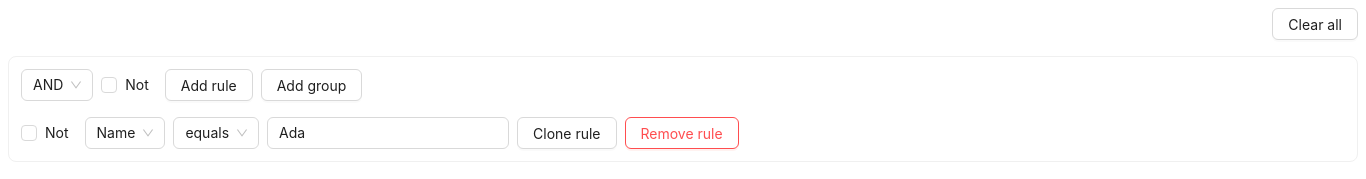
Test case: AntdFilterBuilder clear all › cancel aborts the clear
Click the button "Clear all".
click(1315, 24)  # box [1272, 8, 1358, 40]
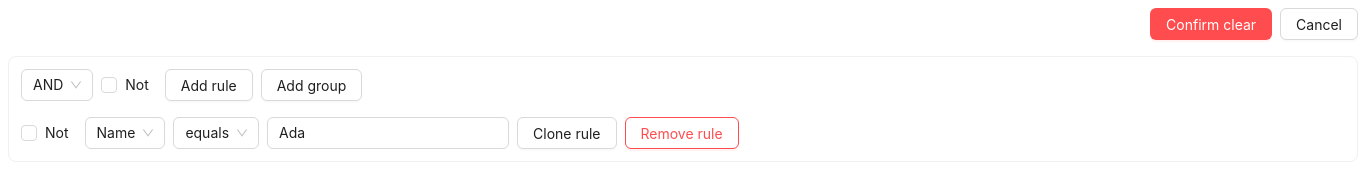
Click the button "Cancel".
click(1319, 24)  # box [1280, 8, 1358, 40]
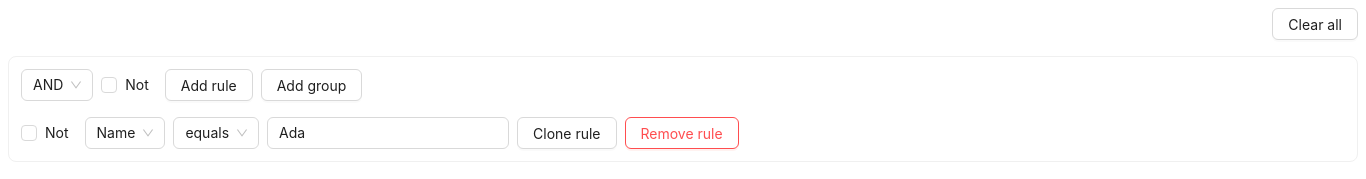
Expected: the button "Clear all" is shown, [1272, 8, 1358, 40]
